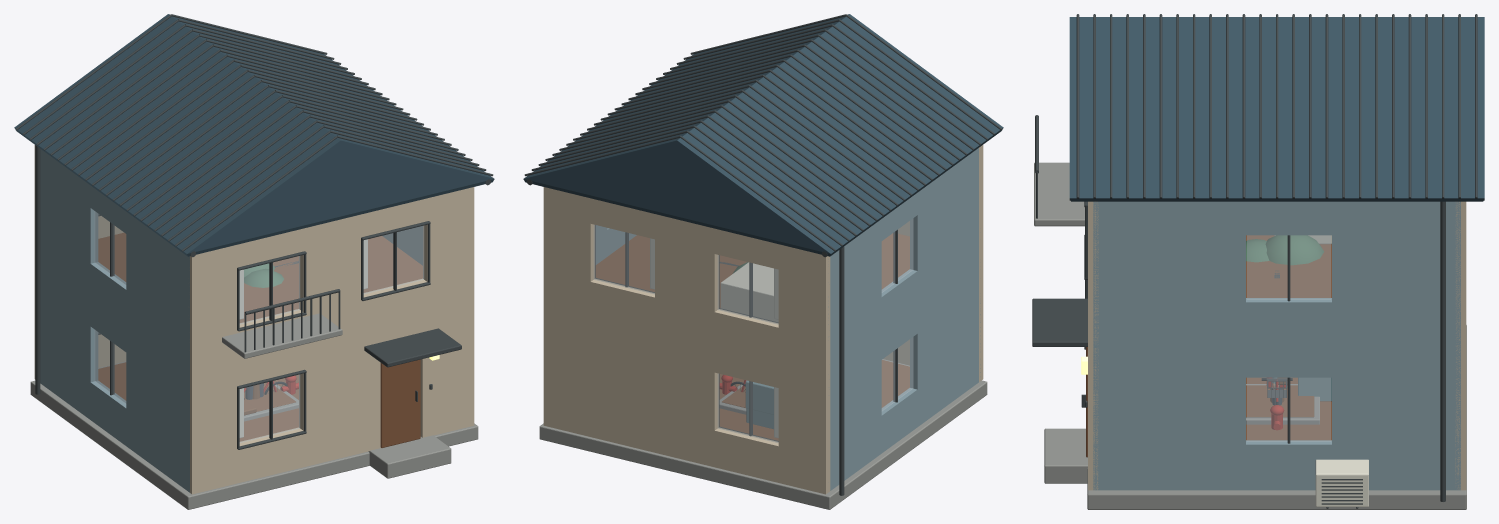
The model's file is town-assets.glb.
The picture shows the model from 3 angles, left to right: view 1: azimuth 30°, elevation 25°; view 2: azimuth 150°, elevation 25°; view 3: azimuth 270°, elevation 25°; orthographic projection. The views are drawn at different scales.
Parts seen in each view (by area): view 1: House_Static_Blue ceramic, House_Static_Warm plaster, House_Static_Slate plaster, House_Static_Dark steel, House_Static_Clear glazing, House_Static_Paved courtyard, House_Static_Cedar, House_Door_Cedar, House_Static_Road paint, Tree_Static_Cedar, Tree_Static_Foliage; view 2: House_Static_Warm plaster, House_Static_Blue ceramic, House_Static_Slate plaster, House_Static_Dark steel, House_Static_Clear glazing, House_Static_Paved courtyard, House_Static_Cedar, House_Static_Road paint, House_Static_Jacket; view 3: House_Static_Slate plaster, House_Static_Blue ceramic, House_Static_Dark steel, House_Static_Paved courtyard, House_Static_Clear glazing, House_Static_Cedar, House_Static_Warm plaster, House_Static_Road paint, Tree_Static_Foliage, Tree_Static_Cedar, House_Static_Jacket, Tree_Static_Paved courtyard.
Part boxes in pixels (x1,y1,x2,y2): House_Static_Blue ceramic: [14, 14, 494, 256]; House_Static_Warm plaster: [34, 145, 474, 494]; House_Static_Slate plaster: [40, 149, 422, 492]; House_Static_Dark steel: [16, 14, 493, 449]; House_Static_Clear glazing: [94, 211, 423, 442]; House_Static_Paved courtyard: [30, 313, 478, 509]; House_Static_Cedar: [98, 233, 422, 441]; House_Door_Cedar: [380, 359, 420, 447]; House_Static_Road paint: [239, 239, 367, 437]; Tree_Static_Cedar: [244, 382, 295, 411]; Tree_Static_Foliage: [244, 263, 283, 287]; House_Static_Warm plaster: [543, 145, 983, 494]; House_Static_Blue ceramic: [523, 14, 1003, 256]; House_Static_Slate plaster: [595, 148, 980, 490]; House_Static_Dark steel: [524, 14, 1001, 495]; House_Static_Clear glazing: [594, 218, 913, 442]; House_Static_Paved courtyard: [539, 359, 987, 509]; House_Static_Cedar: [595, 233, 909, 440]; House_Static_Road paint: [650, 238, 778, 437]; House_Static_Jacket: [745, 380, 773, 428]; House_Static_Slate plaster: [1093, 201, 1460, 490]; House_Static_Blue ceramic: [1069, 17, 1484, 201]; House_Static_Dark steel: [1032, 14, 1484, 508]; House_Static_Paved courtyard: [1034, 162, 1466, 509]; House_Static_Clear glazing: [1247, 235, 1330, 441]; House_Static_Cedar: [1246, 235, 1331, 440]; House_Static_Warm plaster: [1088, 201, 1466, 490]; House_Static_Road paint: [1274, 235, 1368, 506]; Tree_Static_Foliage: [1246, 235, 1323, 265]; Tree_Static_Cedar: [1246, 385, 1314, 417]; House_Static_Jacket: [1298, 377, 1331, 401]; Tree_Static_Paved courtyard: [1246, 384, 1319, 424].
Bounding box in the file's own units: 7.61 × 7.65 × 7.63.
